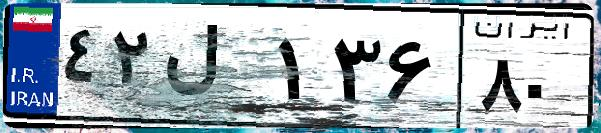0: (525, 38, 570, 115)
1: (270, 28, 330, 110)
2: (110, 28, 158, 98)
3: (330, 28, 385, 110)
4: (57, 26, 110, 100)
6: (385, 28, 445, 110)
8: (475, 38, 525, 113)
ل: (158, 20, 270, 120)
